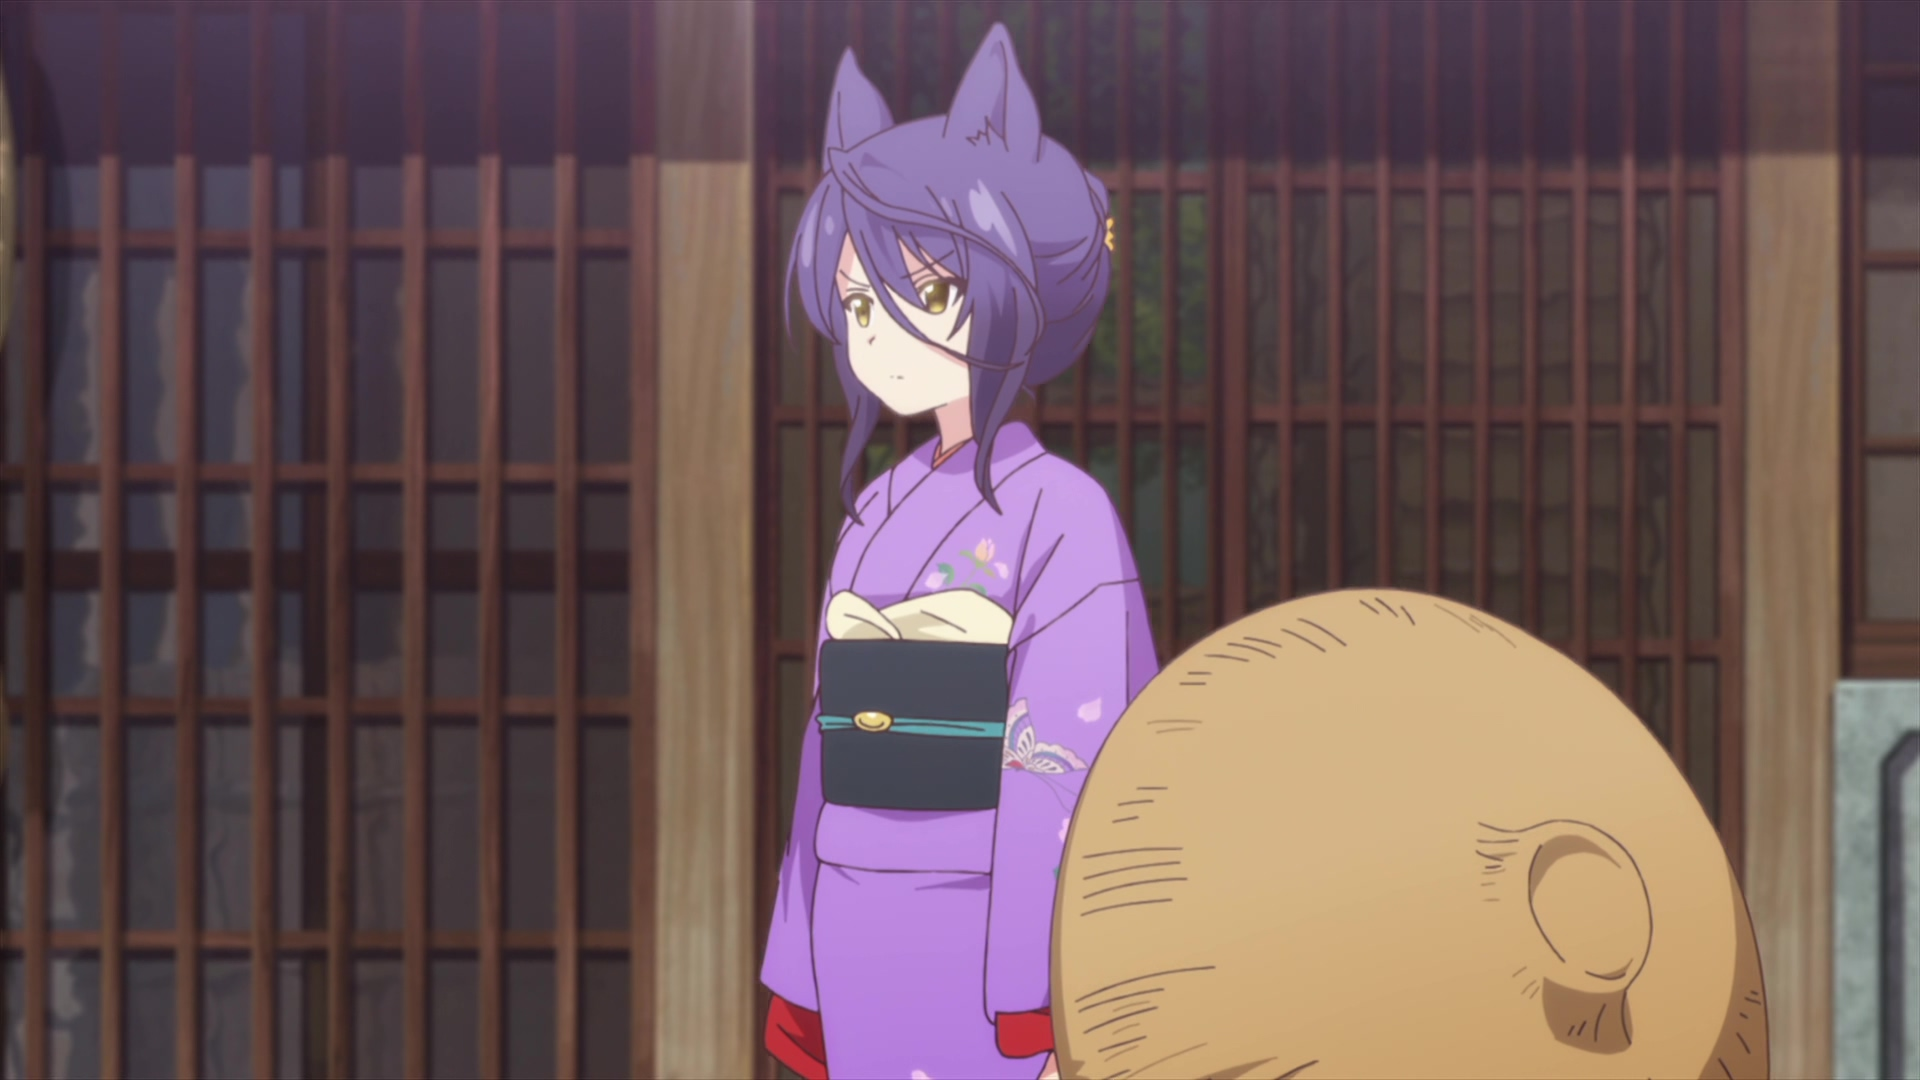其他: (1047, 587, 1771, 1080)
皋: (756, 22, 1160, 1080)
